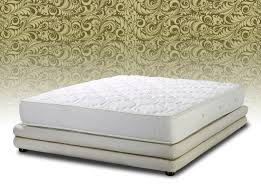bed-matress: (18, 72, 243, 143)
